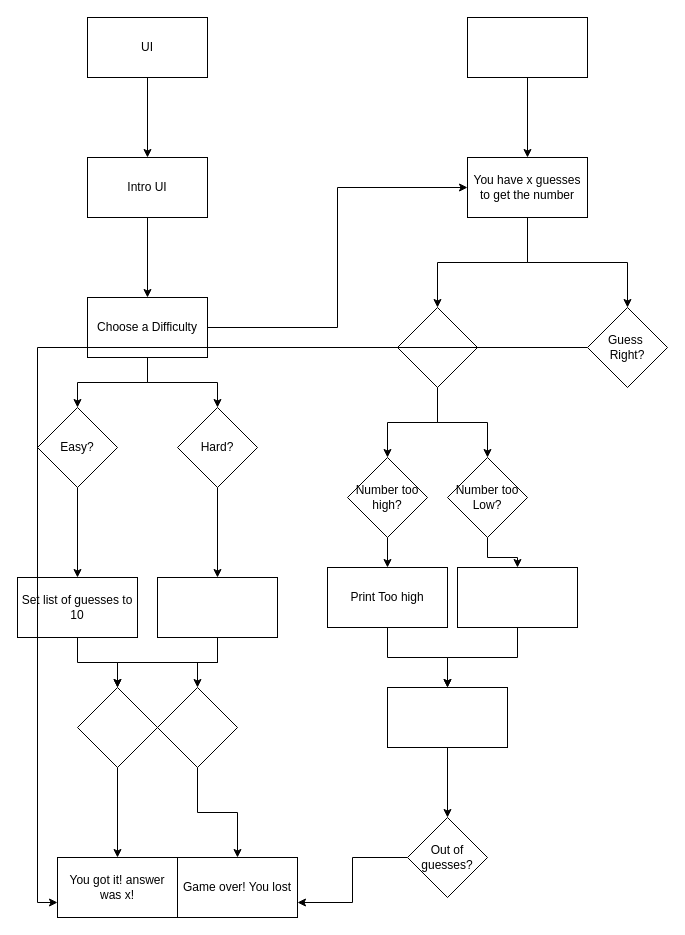
Some shapes in this 685 by 935 pixel diagram are drawn without their labels. The shapes that lost their labels are listed below. From the top down, each one's centre as x and y in pixels, then its label:
At pixel 527 47: "Gameplay".
At pixel 437 347: "Guess Wrong?".
At pixel 217 607: "Set list of guesses to 5".
At pixel 517 597: "Print Too low".
At pixel 117 727: "Guess Correct?".
At pixel 197 727: "Guesses wrong?".
At pixel 447 717: "Return number of guesses left".
